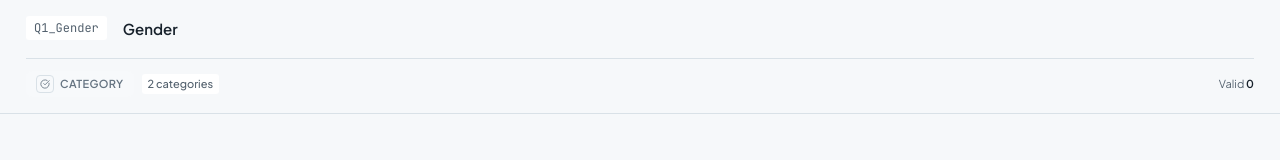
Test: InspectorHeader › enters inline label edit mode when label is clicked
Click the button "Gender" at x=150, y=28, box [123,19,178,38]
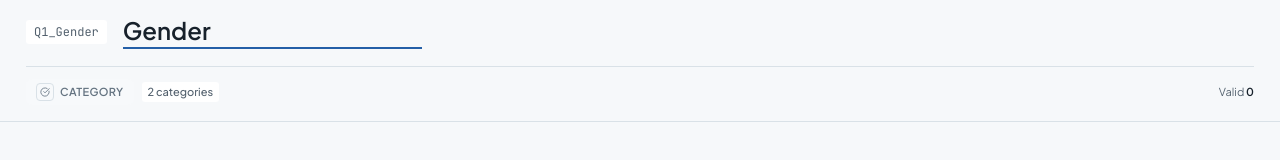
Expected: the field is shown, [123,16,422,49]
